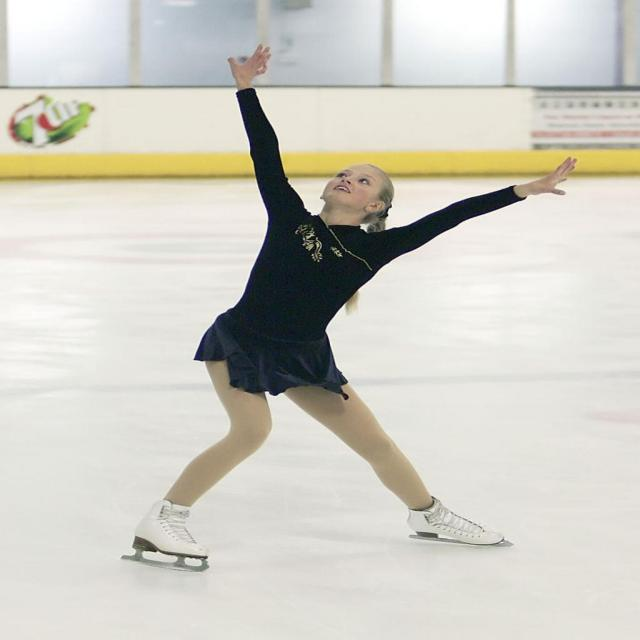nomask: (324, 165, 380, 211)
